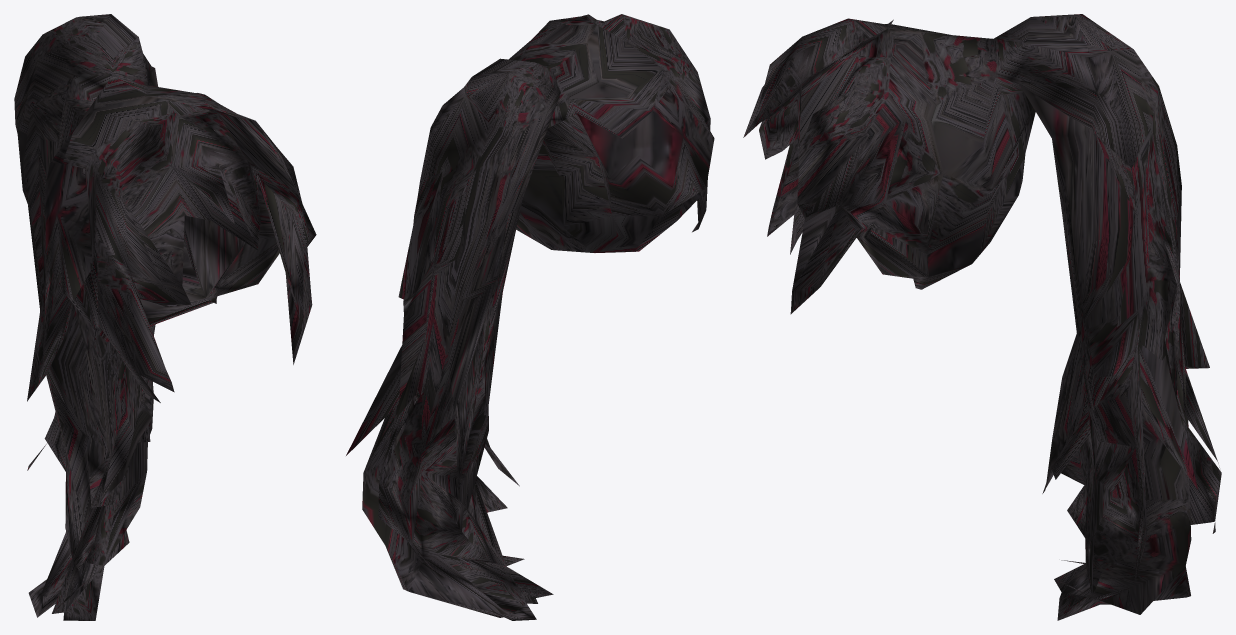
Rendered from hair_f1.glb.
3 views of the same model, side by side, from view 1: azimuth 30°, elevation 25°; view 2: azimuth 150°, elevation 25°; view 3: azimuth 270°, elevation 25° (orthographic). The views are drawn at different scales.
Visible parts, largest first — view 1: hair_f1; view 2: hair_f1; view 3: hair_f1.
Boxes of the visible parts, x1=… form: hair_f1: x1=14, y1=14, x2=316, y2=620; hair_f1: x1=346, y1=14, x2=714, y2=620; hair_f1: x1=743, y1=14, x2=1221, y2=620.
Size of the model in its own units: 0.4469 by 1.09 by 0.7862.
1 material, 1 textured.
